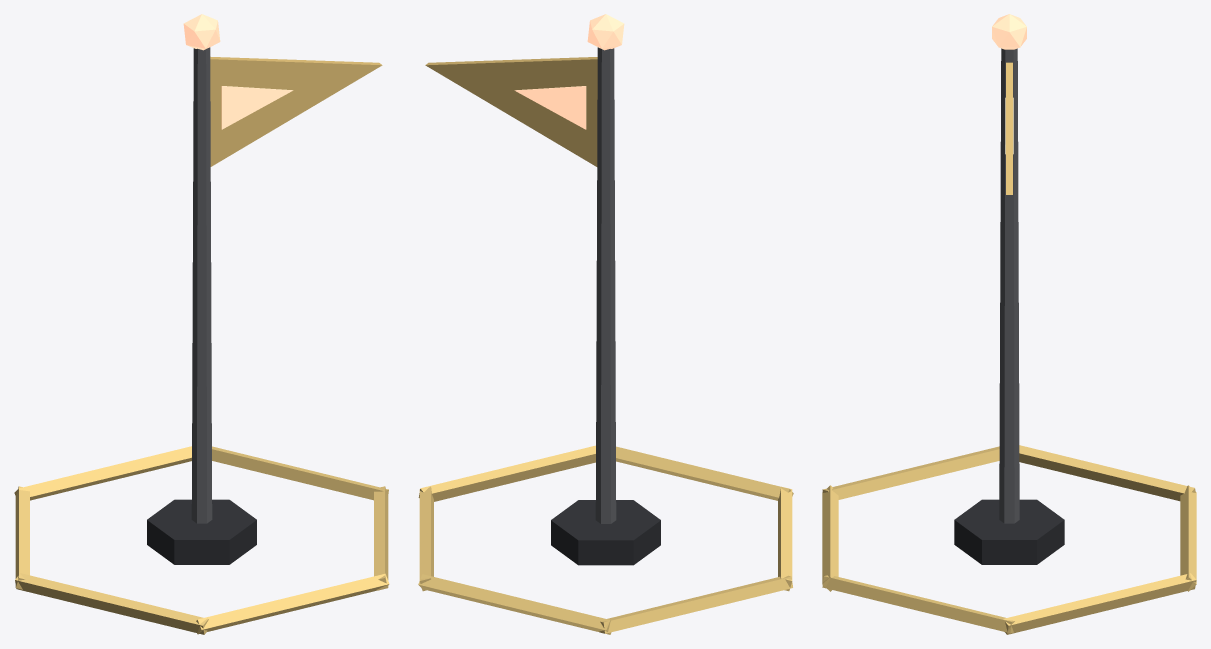
Rendered from FX_AegisBeacon.fbx.
3 renders of one model, left to right at view 1: azimuth 30°, elevation 25°; view 2: azimuth 150°, elevation 25°; view 3: azimuth 270°, elevation 25°, orthographic.
Visible parts, largest first — view 1: ABeacon_GroundRing, ABeacon_Pole, ABeacon_Flag, ABeacon_Base, ABeacon_FlagMark, ABeacon_Light; view 2: ABeacon_GroundRing, ABeacon_Pole, ABeacon_Flag, ABeacon_Base, ABeacon_FlagMark, ABeacon_Light; view 3: ABeacon_GroundRing, ABeacon_Pole, ABeacon_Base, ABeacon_Light, ABeacon_Flag.
Boxes of the visible parts, x1=… form: ABeacon_GroundRing: x1=14, y1=446, x2=389, y2=634; ABeacon_Pole: x1=191, y1=47, x2=212, y2=523; ABeacon_Flag: x1=210, y1=56, x2=382, y2=166; ABeacon_Base: x1=147, y1=499, x2=256, y2=564; ABeacon_FlagMark: x1=221, y1=86, x2=293, y2=129; ABeacon_Light: x1=183, y1=14, x2=220, y2=50; ABeacon_GroundRing: x1=418, y1=445, x2=793, y2=634; ABeacon_Pole: x1=595, y1=47, x2=616, y2=523; ABeacon_Flag: x1=425, y1=57, x2=597, y2=166; ABeacon_Base: x1=551, y1=500, x2=660, y2=565; ABeacon_FlagMark: x1=514, y1=86, x2=586, y2=129; ABeacon_Light: x1=587, y1=14, x2=624, y2=50; ABeacon_GroundRing: x1=822, y1=445, x2=1196, y2=634; ABeacon_Pole: x1=999, y1=48, x2=1019, y2=523; ABeacon_Base: x1=954, y1=499, x2=1064, y2=564; ABeacon_Light: x1=992, y1=14, x2=1026, y2=49; ABeacon_Flag: x1=1006, y1=62, x2=1012, y2=194.
Size of the model in its own units: 0.6255 by 0.852 by 0.5436.
